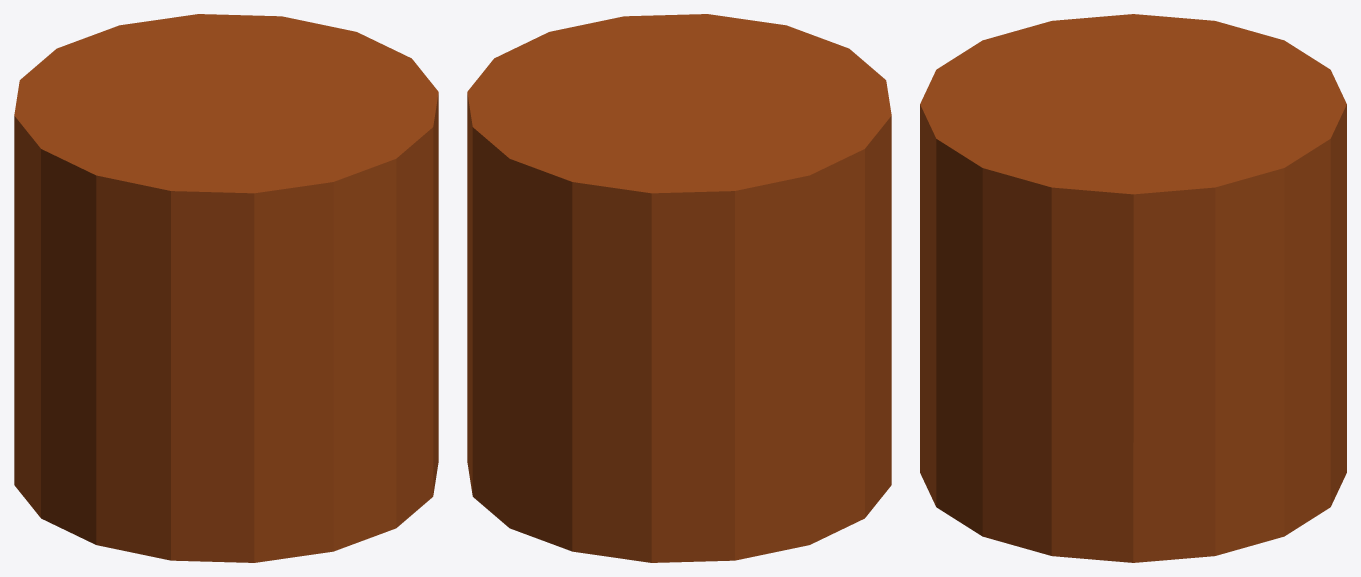
File: duz_govde_kisa_yeni.fbx
3 renders of one model, left to right at view 1: azimuth 30°, elevation 25°; view 2: azimuth 150°, elevation 25°; view 3: azimuth 270°, elevation 25°, orthographic.
Visible parts, largest first — view 1: Cylinder.013; view 2: Cylinder.013; view 3: Cylinder.013.
Part boxes in pixels (x1,y1,x2,y2): Cylinder.013: (14,14,438,562); Cylinder.013: (467,14,891,562); Cylinder.013: (920,14,1346,562).
Size of the model in its own units: 3.05 by 2.91 by 3.05.
